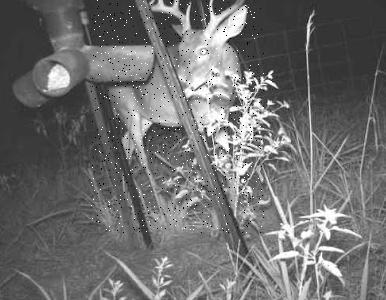Deer: (91, 0, 264, 233)
